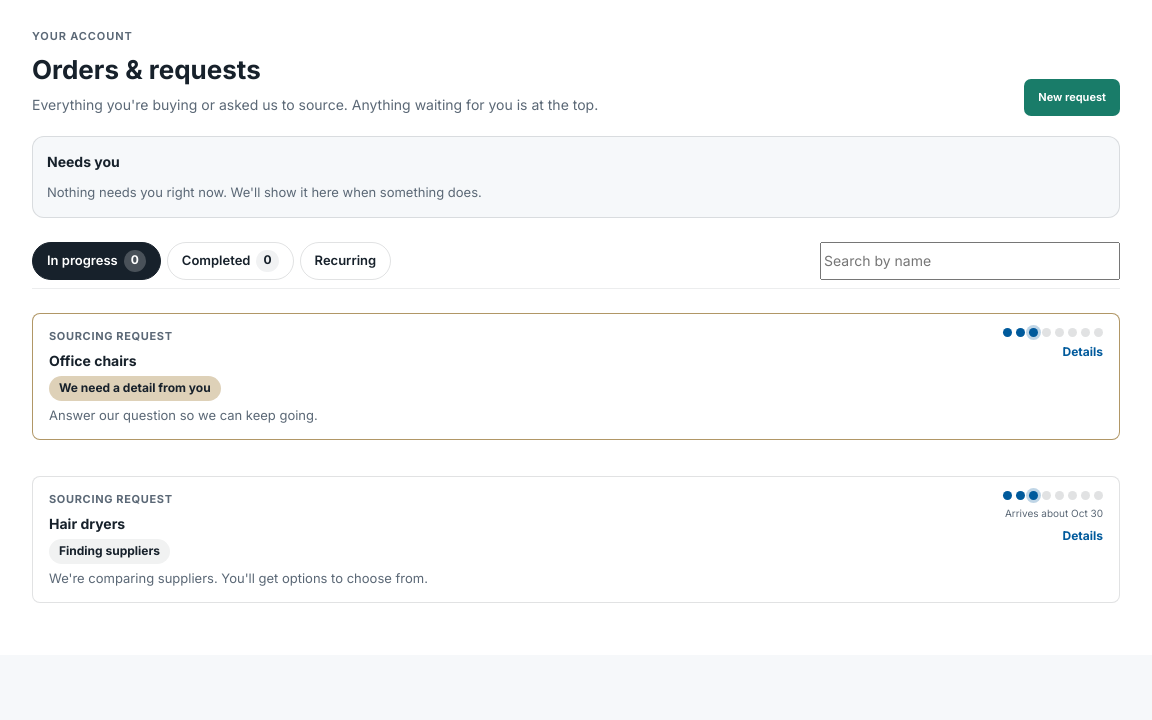
Test case: Orders & requests › searches, switches to Completed, and opens the new request form on demand
expect the text "Finding suppliers" is shown: met, box x1=49 y1=539 x2=170 y2=564
Type "dryer" into the search field named "Search orders and requests" at (970, 260), box x1=820 y1=242 x2=1120 y2=280
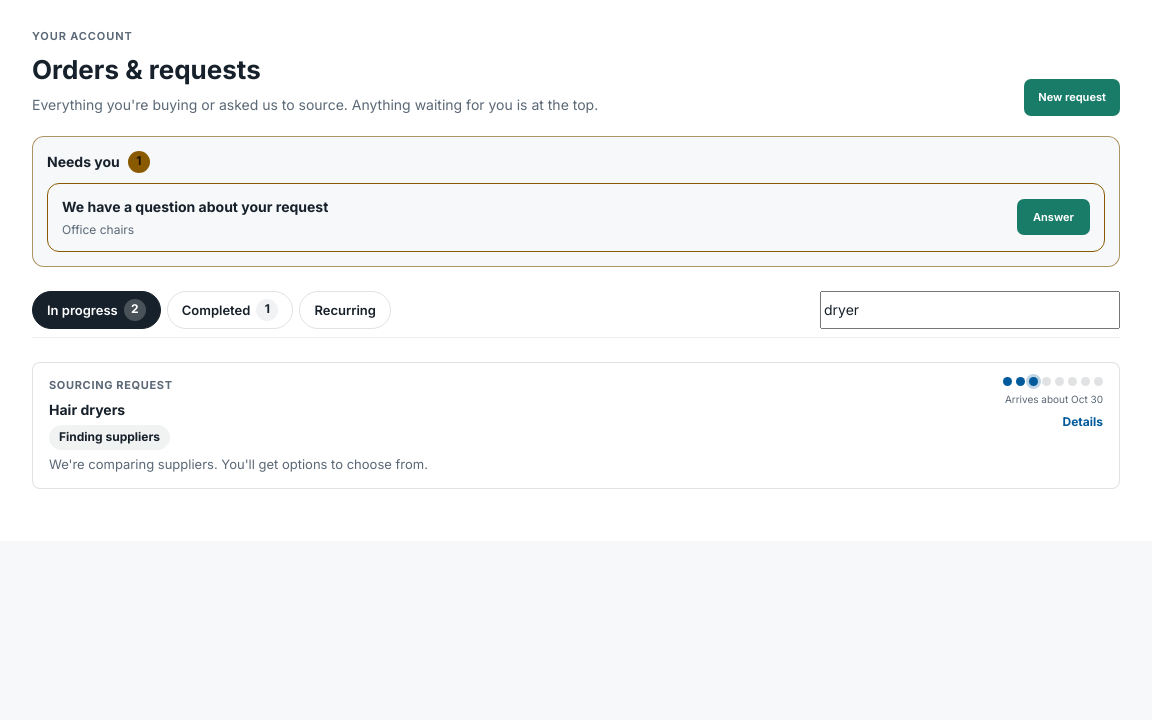
expect the text "Hair dryers" is shown: met, box x1=49 y1=401 x2=125 y2=418
Clear the search field named "Search orders and requests" at (970, 310), box x1=820 y1=291 x2=1120 y2=329
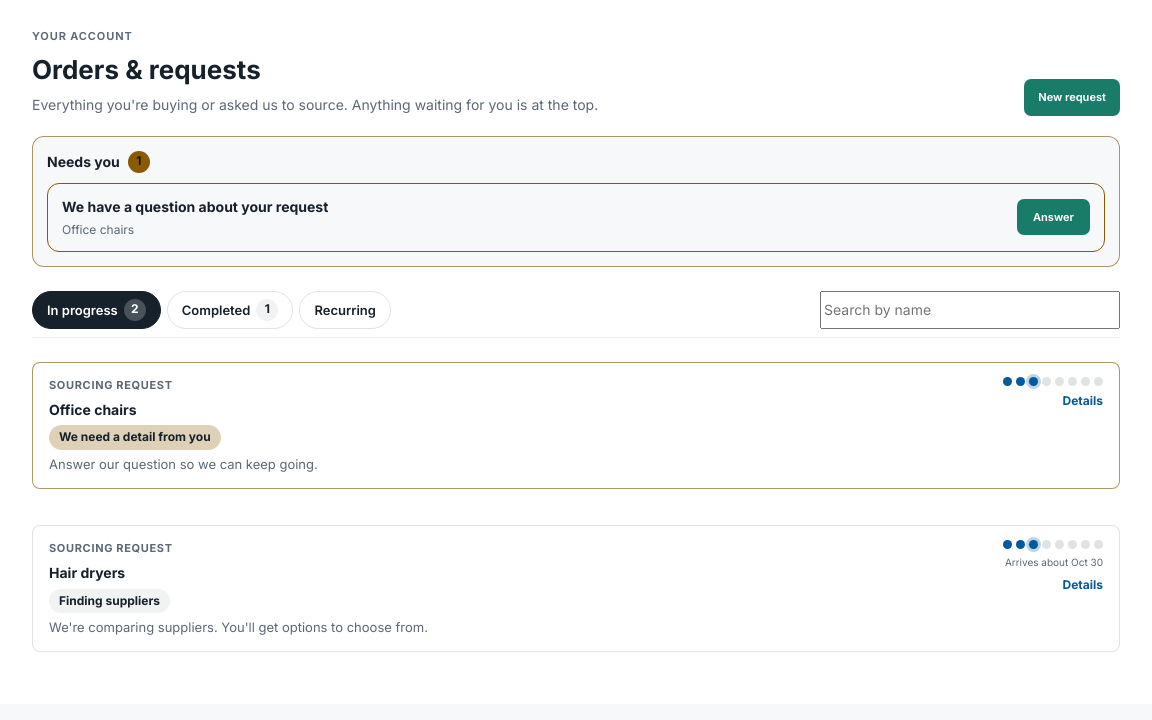
Click the tab "Completed 1" at (230, 310), box x1=167 y1=291 x2=293 y2=329
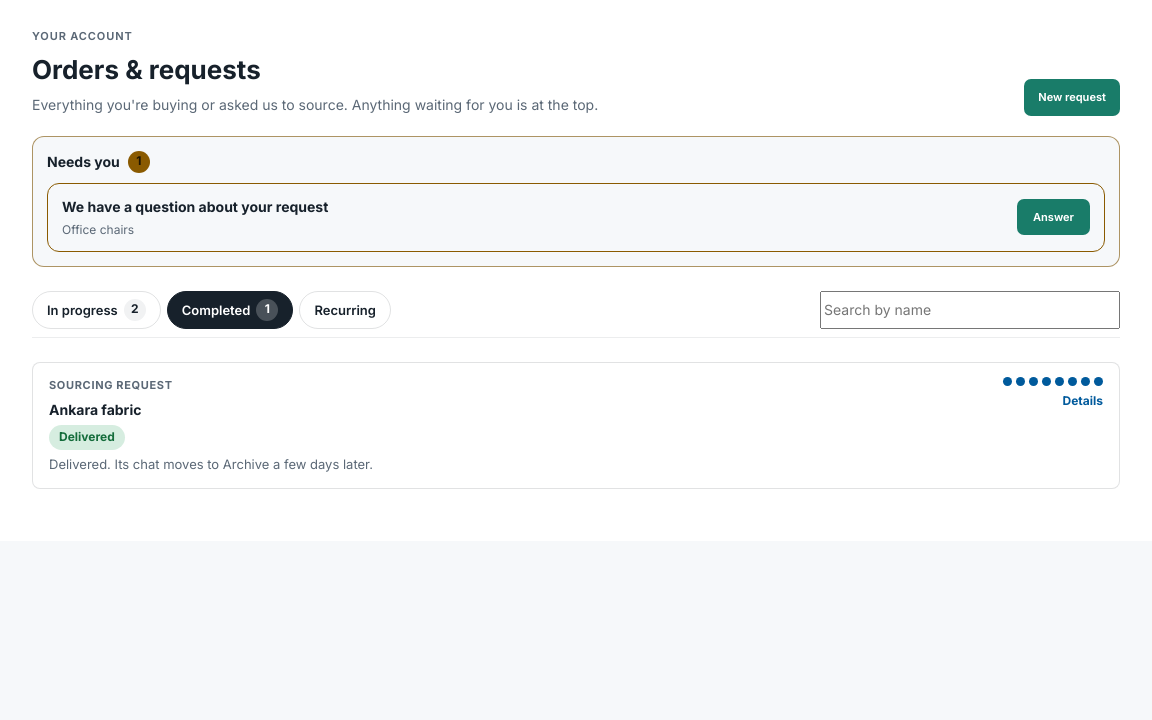
expect the text "Ankara fabric" is shown: met, box x1=49 y1=401 x2=141 y2=418
expect the text "Delivered" is shown: met, box x1=49 y1=426 x2=125 y2=450
Click the button "New request" at (1072, 97), box x1=1024 y1=79 x2=1120 y2=116
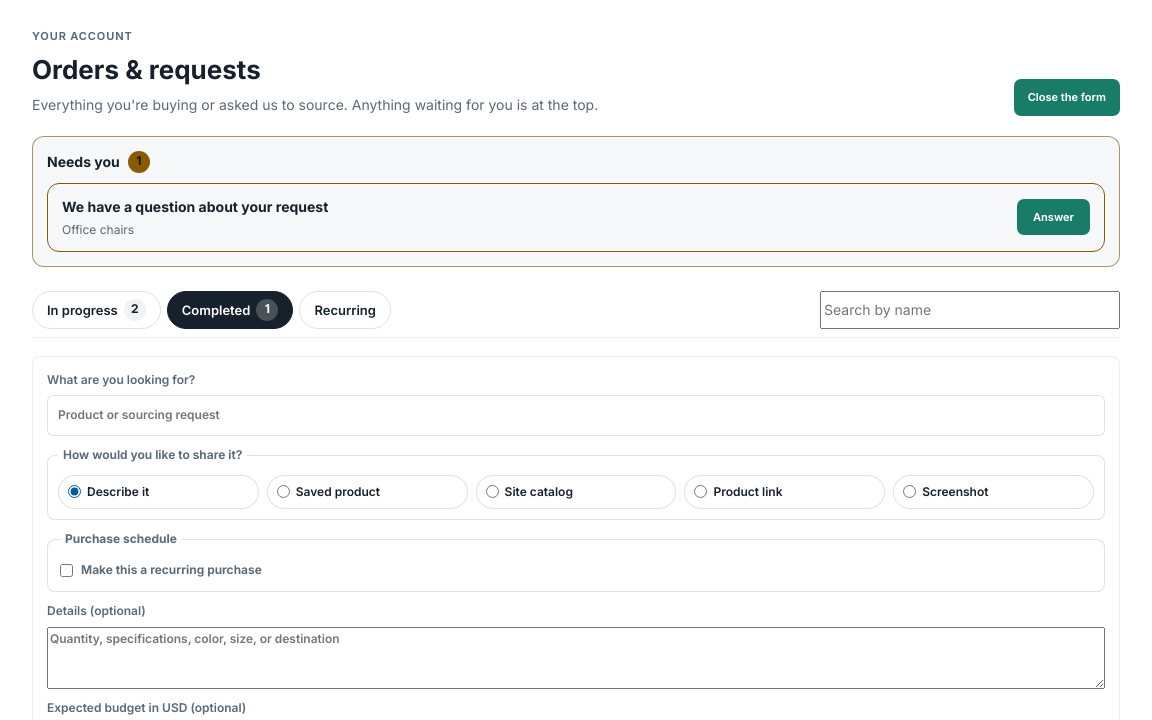
expect the field named "Request title" is shown: met, box x1=47 y1=395 x2=1105 y2=436
